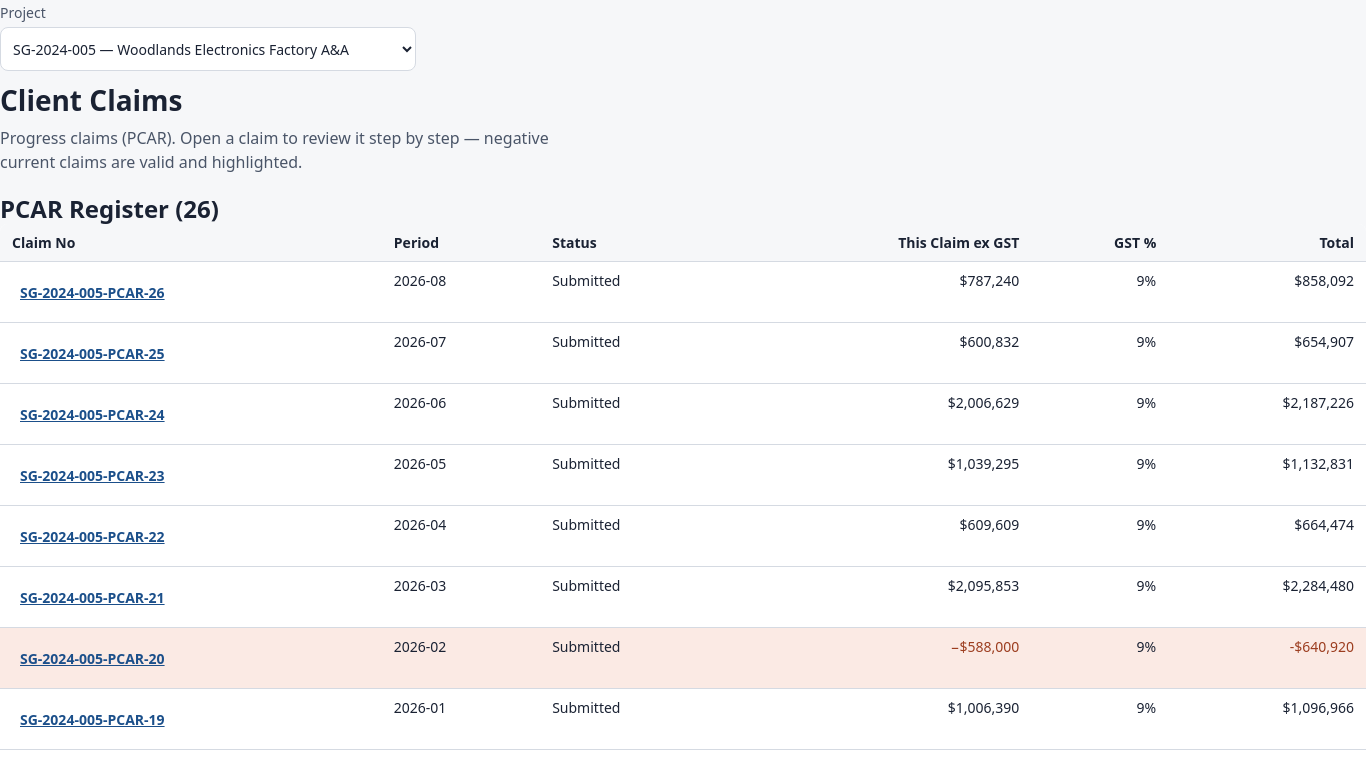
ClaimsView (TASK-007) › flags the negative claim in the review summary
Click the button "SG-2024-005-PCAR-20": [92, 658] box left=12, top=636, right=173, bottom=680
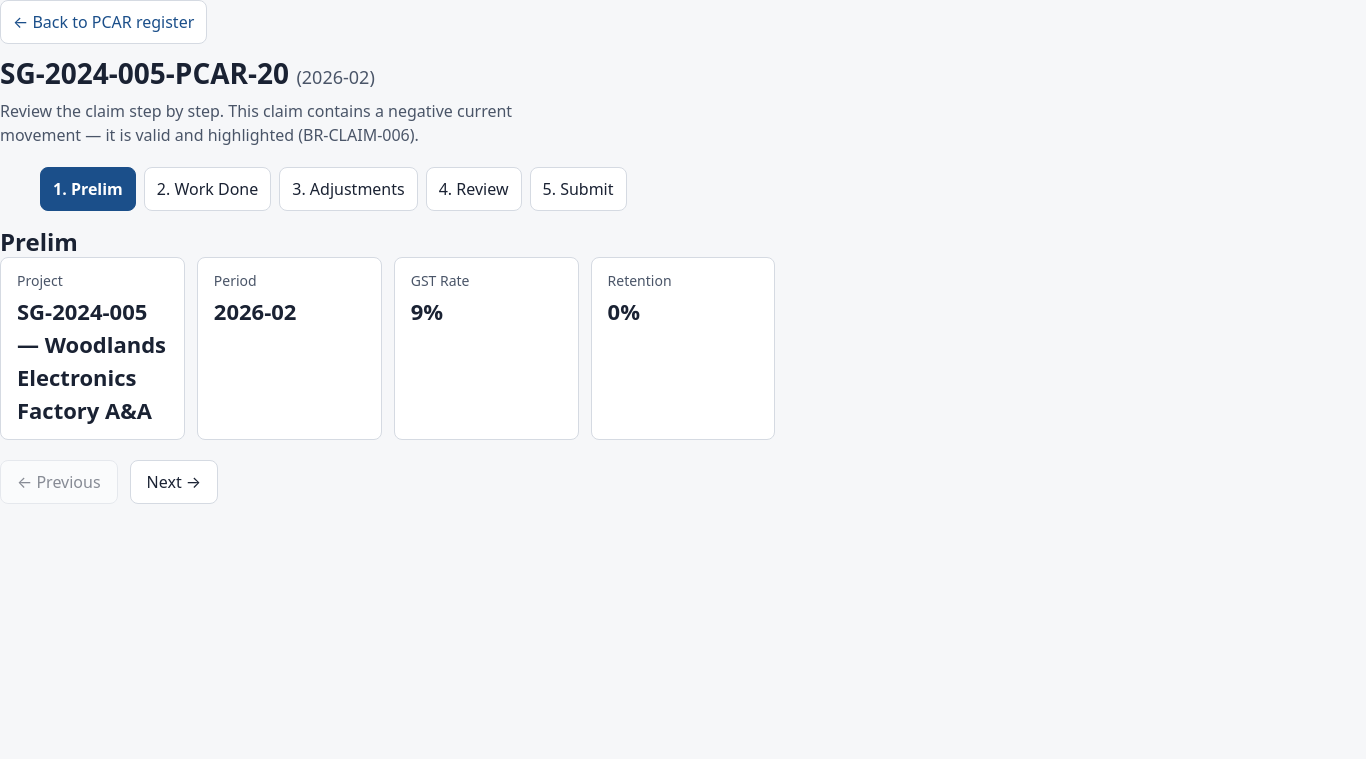
Click the button "4. Review": [474, 189] box left=426, top=167, right=522, bottom=211
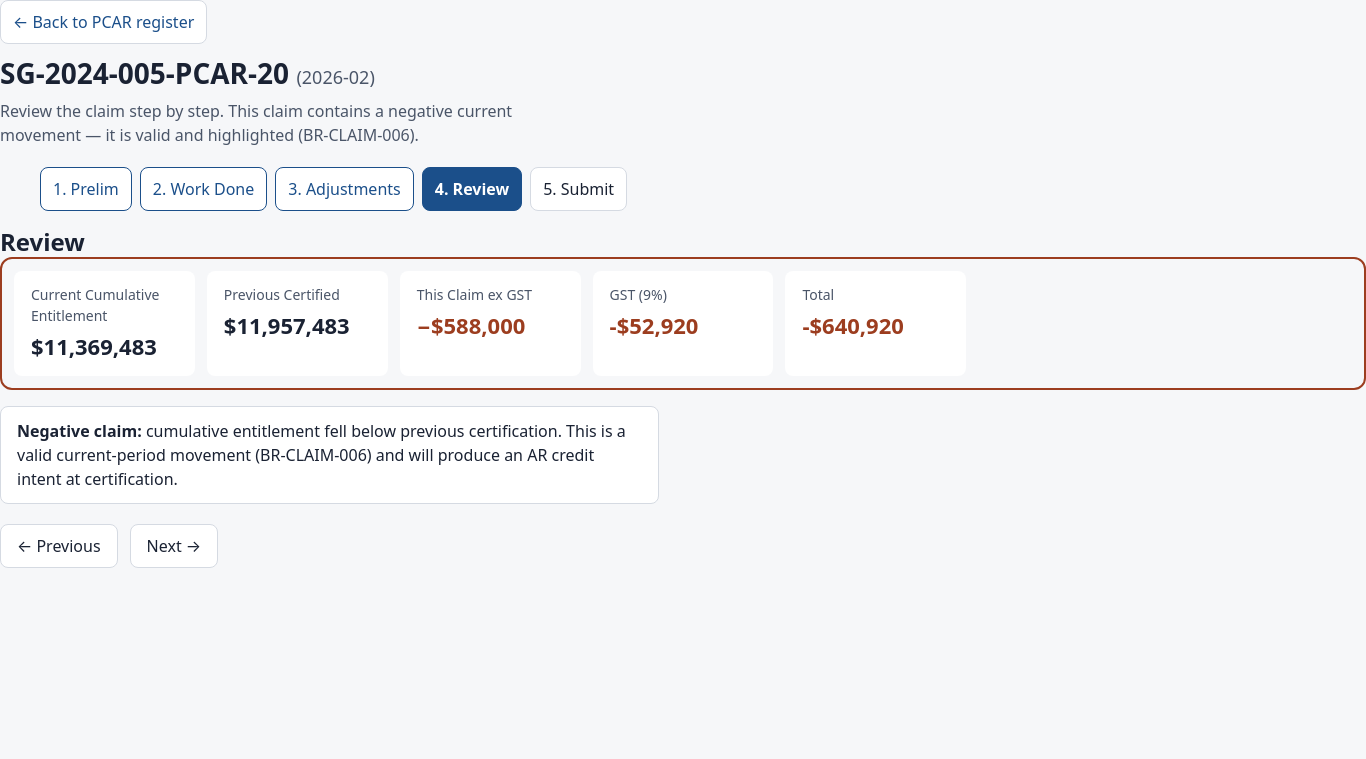
Expected: the message shows "Negative claim", left=17, top=420, right=142, bottom=442
